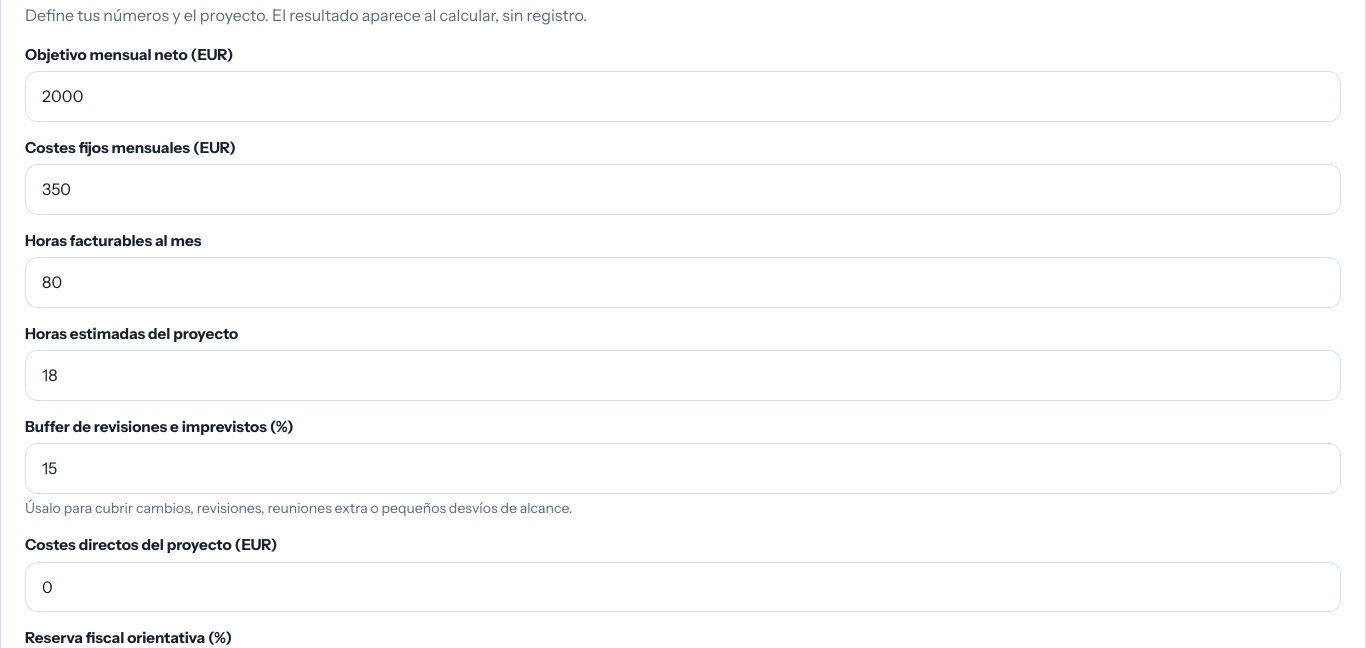
Test: CalculatorForm › preserves an invalid cost and focuses it after submission
The width and height of the screenshot is (1366, 648).
Replace the text in the number field labelled "Costes fijos mensuales (EUR)" with "-100" at [683, 189], box 25,164 -> 1341,215
(page scrolled)
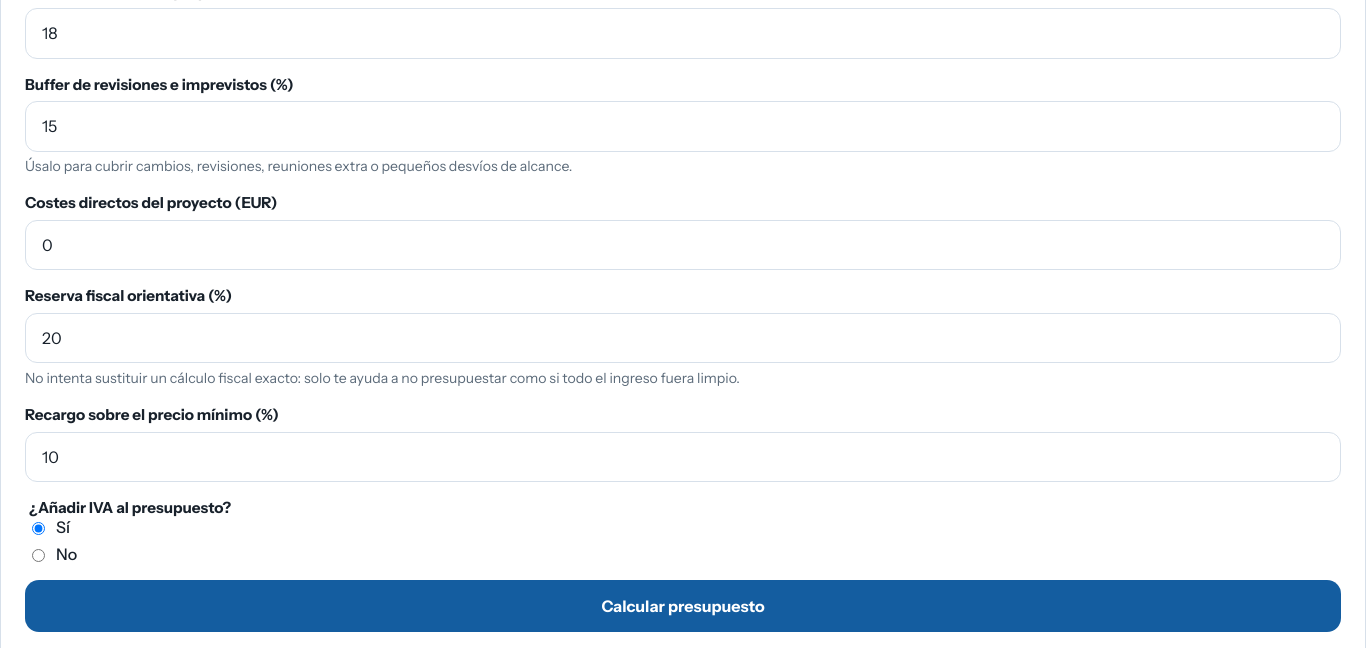
Click the button "Calcular presupuesto" at [683, 606], box 25,580 -> 1341,632
(page scrolled)
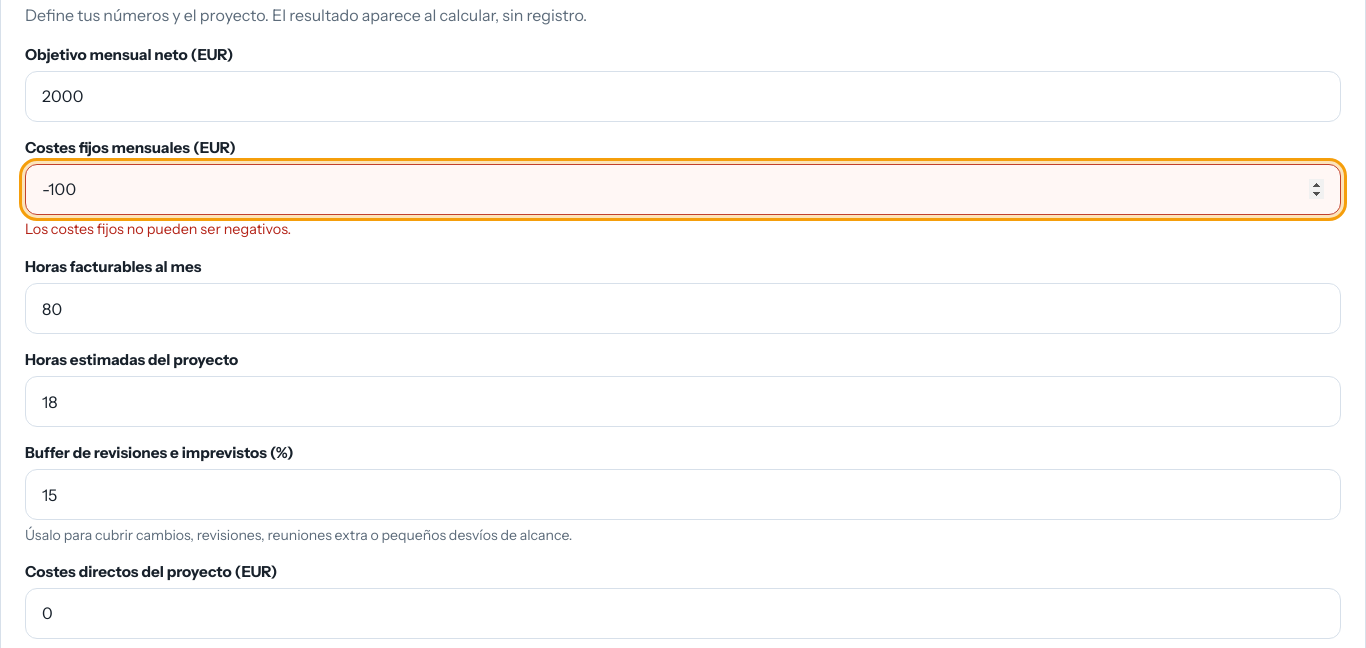
Check: the text "Los costes fijos no pueden ser negativos." is shown, box 25,220 -> 291,238
